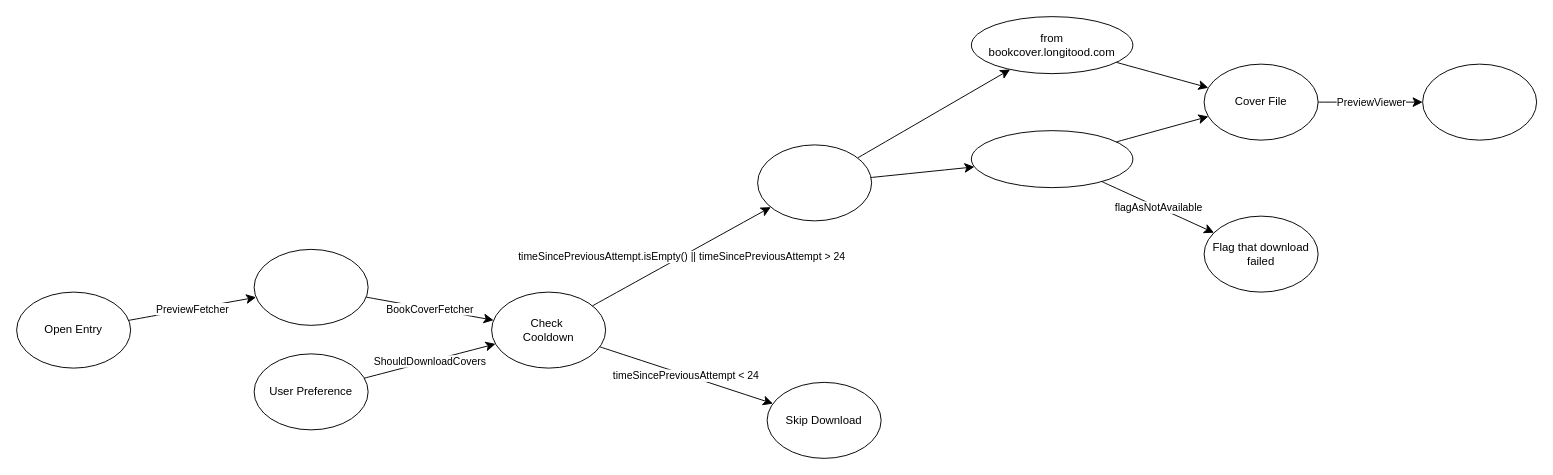
The diagram is 1553 pixels wide and 475 high, and some of its shapes have lost their labels. The shapes that lost their labels are listed below. From the top down, each one's centre as x and y in pixels, then its label:
(1479,101): Display in Preview
(1051,159): fallback to covers.openlibrary.org
(814,182): Attempt Download Cover Image
(310,286): Entry with ISBN
